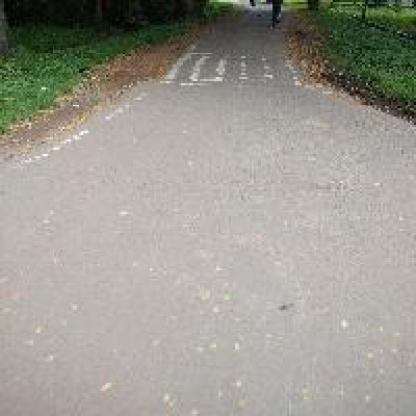Speed Bump: (152, 43, 337, 94)
